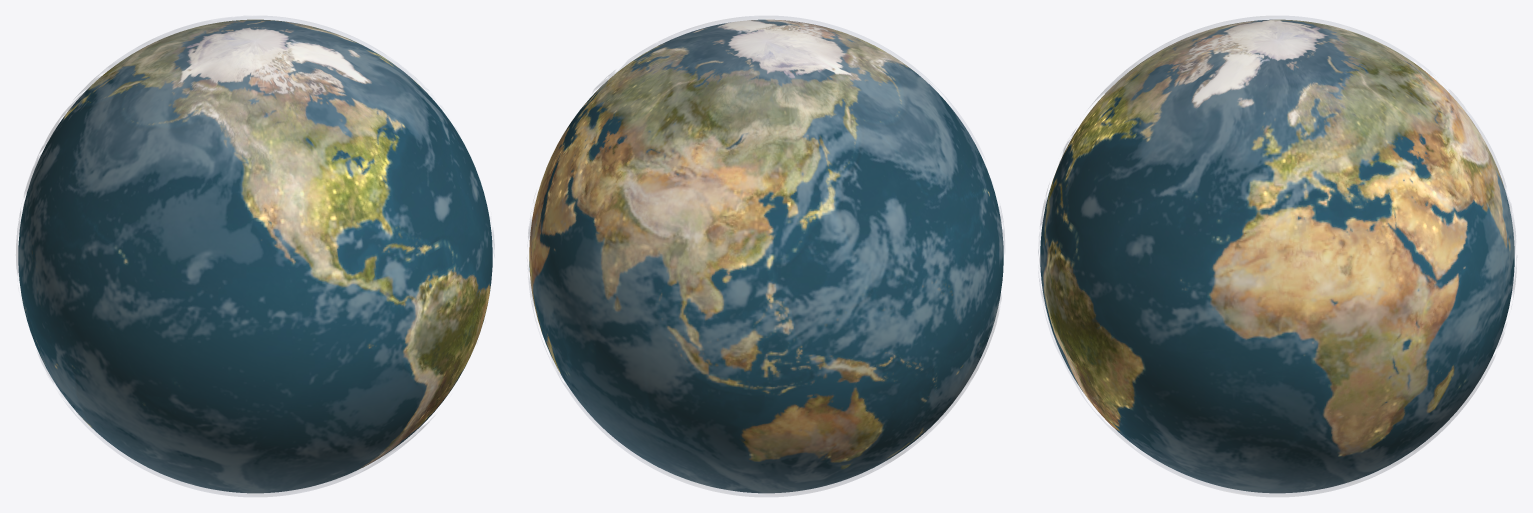
The model's file is earth.glb.
The picture shows the model from 3 angles, left to right: view 1: azimuth 30°, elevation 25°; view 2: azimuth 150°, elevation 25°; view 3: azimuth 270°, elevation 25°; orthographic projection.
Parts seen in each view (by area): view 1: Earth, Clouds; view 2: Earth, Clouds; view 3: Earth, Clouds.
Part boxes in pixels (x1,y1,x2,y2): Earth: [18, 19, 492, 493]; Clouds: [16, 16, 494, 496]; Earth: [529, 19, 1003, 493]; Clouds: [528, 16, 1004, 496]; Earth: [1040, 19, 1514, 493]; Clouds: [1038, 16, 1516, 496].
Size of the model in its own units: 2.03 by 2.05 by 2.03.
3 materials, 2 textured.
